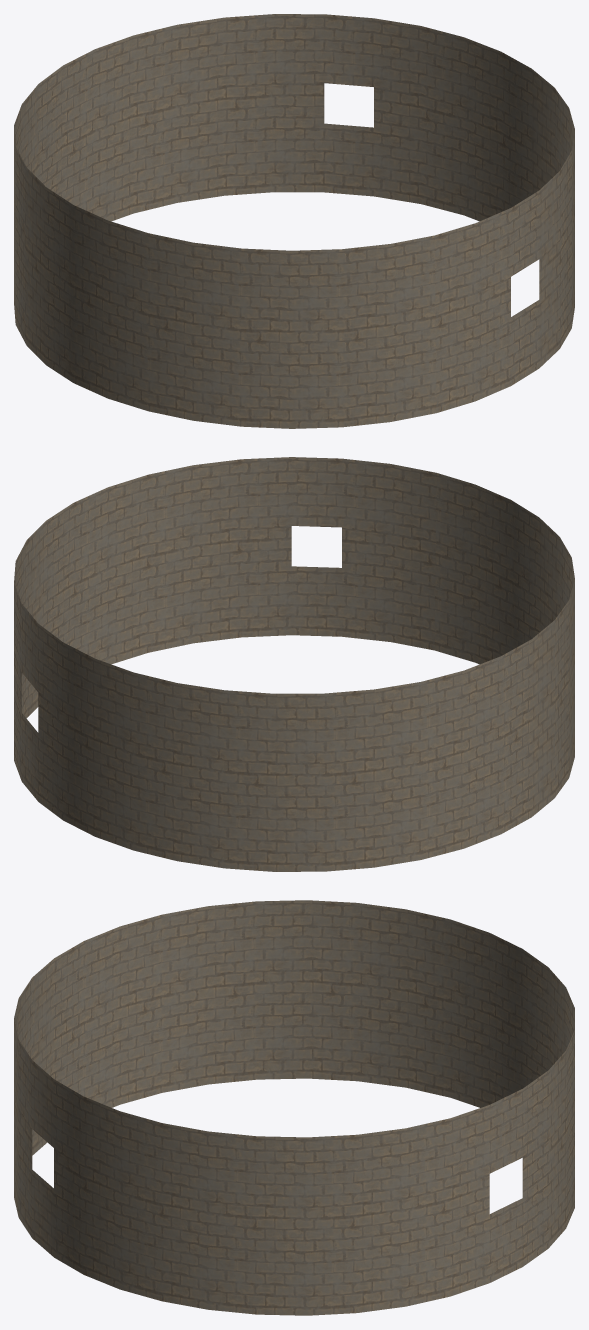
File: Peru.fbx
3 renders of one model, top to bottom at view 1: azimuth 30°, elevation 25°; view 2: azimuth 150°, elevation 25°; view 3: azimuth 270°, elevation 25°, orthographic.
Parts seen in each view (by area): view 1: Plane; view 2: Plane; view 3: Plane.
Boxes of the visible parts, box(x1,y1,x2,y2) form: Plane: box(14, 14, 574, 428); Plane: box(14, 457, 574, 871); Plane: box(14, 900, 574, 1315).
Bounding box in the file's own units: 1141 × 400 × 1141.
